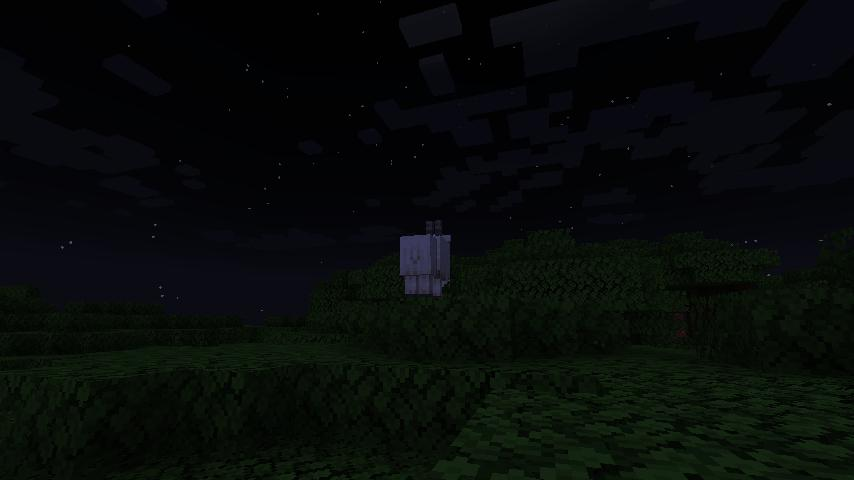goat: (397, 217, 456, 297)
